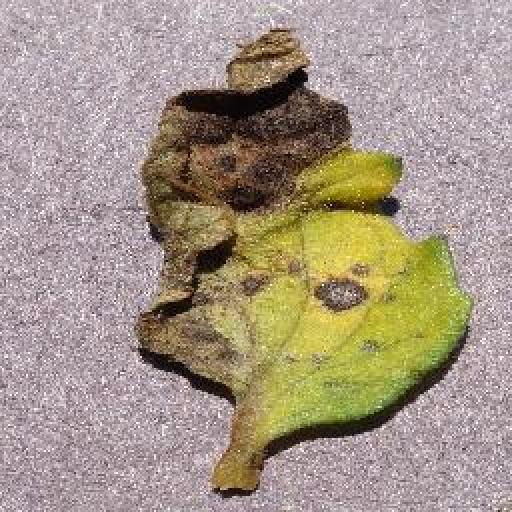Septoria: (132, 24, 475, 439)
